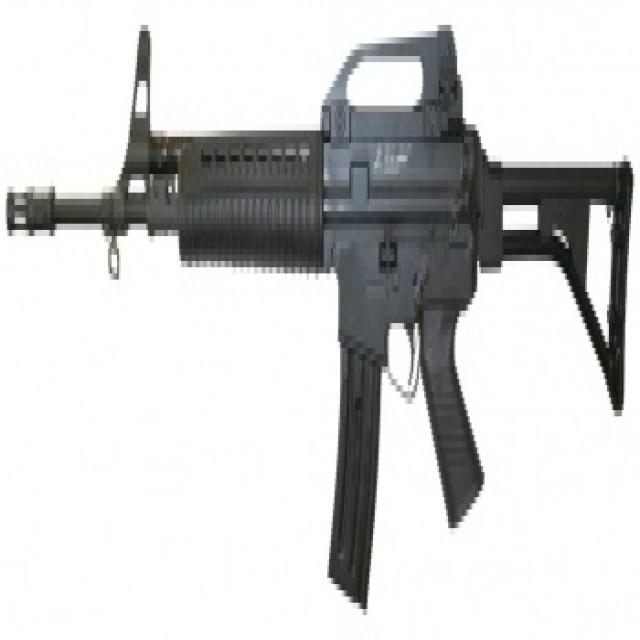rifle: (2, 22, 640, 640)
